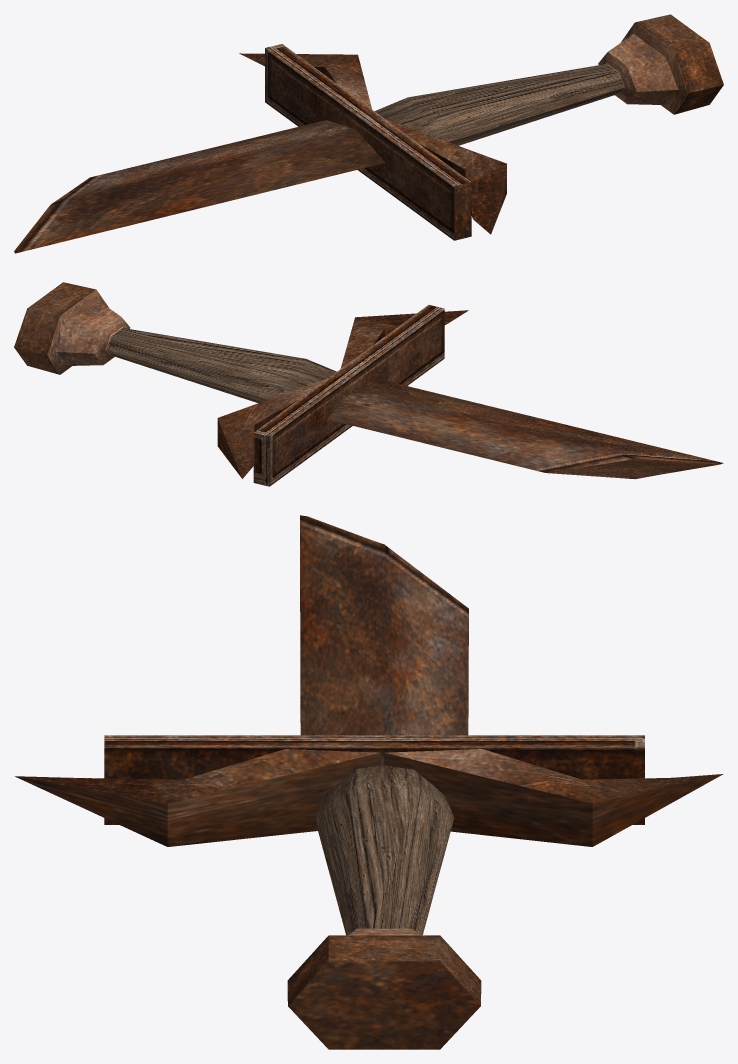
Rendered from mm9_deco_swordbroken.glb.
3 renders of one model, top to bottom at view 1: azimuth 30°, elevation 25°; view 2: azimuth 150°, elevation 25°; view 3: azimuth 270°, elevation 25°, orthographic. The views are drawn at different scales.
Visible parts, largest first — view 1: Swordbroken; view 2: Swordbroken; view 3: Swordbroken.
Part boxes in pixels (box(x1,y1,x2,y2)): Swordbroken: box(14, 14, 723, 253); Swordbroken: box(14, 282, 723, 486); Swordbroken: box(15, 515, 723, 1049).
Size of the model in its own units: 0.7022 by 0.0607 by 0.4293.
2 materials, 2 textured.
